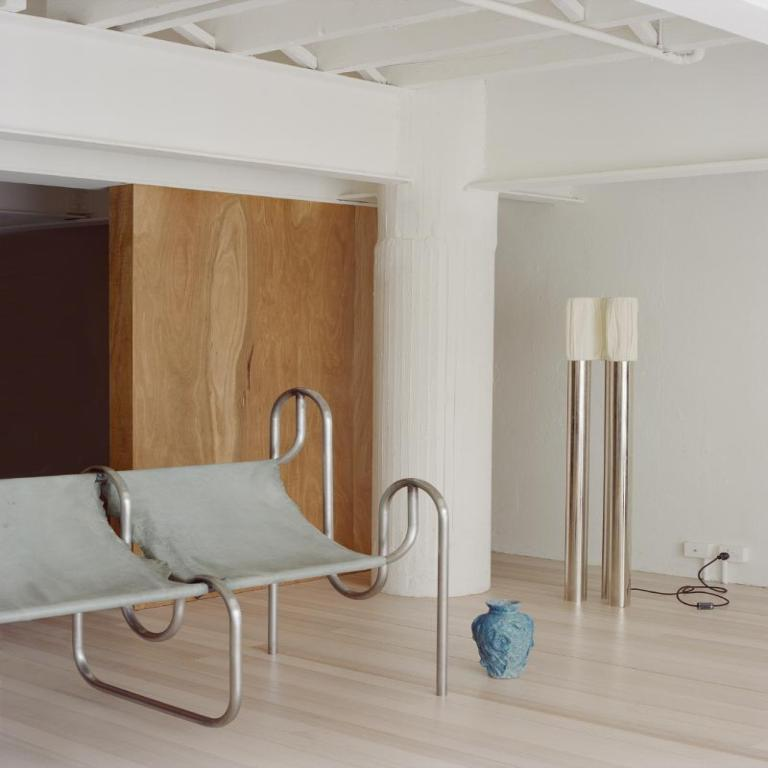white-walls: (533, 199, 756, 527)
